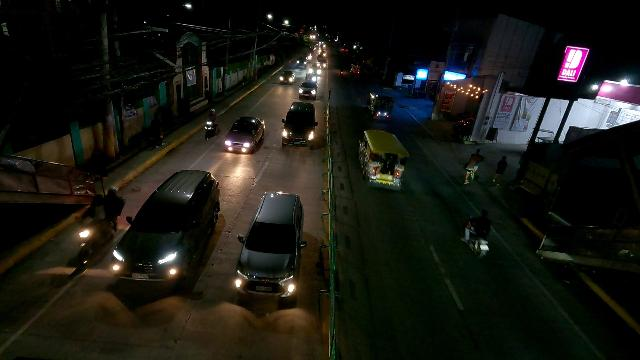car: (110, 170, 226, 283), (229, 189, 307, 305), (221, 117, 270, 157), (281, 101, 319, 148), (298, 78, 319, 98), (279, 70, 295, 84), (309, 64, 321, 77), (296, 56, 308, 68), (316, 56, 327, 68)
jeepney: (357, 128, 411, 196)
motorcycle: (69, 185, 128, 268), (463, 209, 491, 262), (203, 108, 222, 143), (338, 65, 345, 78)
